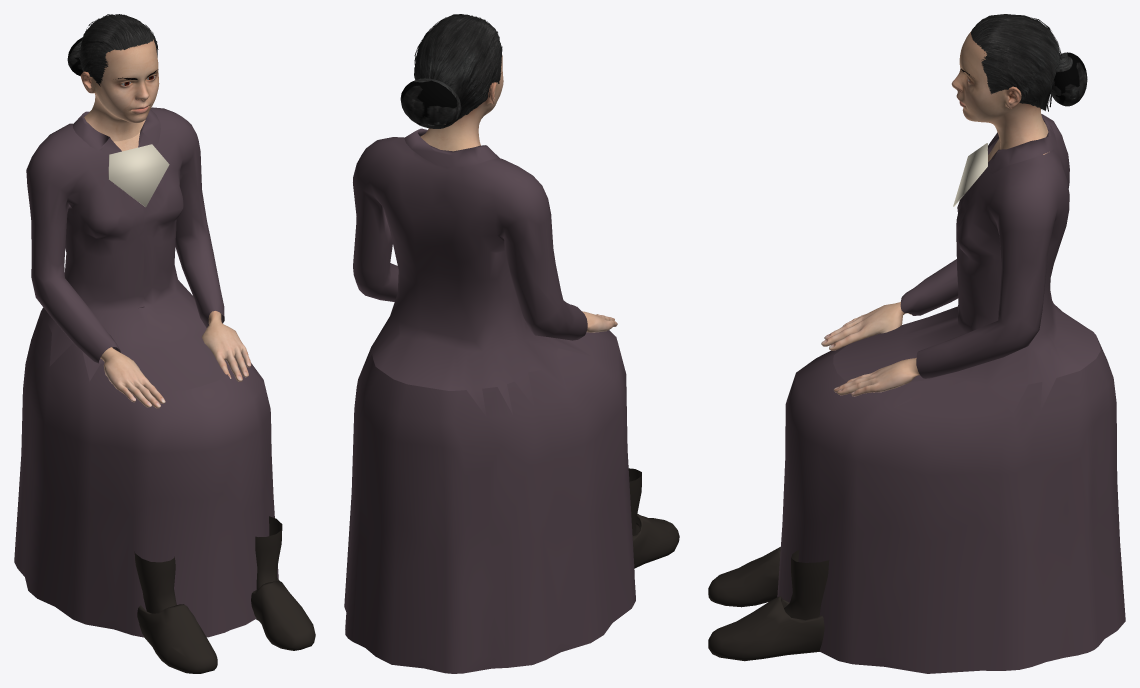
File: household-characters.glb
3 renders of one model, left to right at view 1: azimuth 30°, elevation 25°; view 2: azimuth 150°, elevation 25°; view 3: azimuth 270°, elevation 25°, orthographic. The views are drawn at different scales.
Parts seen in each view (by area): view 1: survivor_root_Coat, survivor_upper_Coat, survivor_root_Boot, survivor_head_Skin, survivor_upper_Skin, survivor_head_Hair, survivor_upper_Shirt; view 2: survivor_root_Coat, survivor_upper_Coat, survivor_head_Hair, survivor_head_BunHair, survivor_root_Boot, survivor_head_Skin; view 3: survivor_root_Coat, survivor_upper_Coat, survivor_root_Boot, survivor_head_Hair, survivor_head_Skin, survivor_upper_Skin, survivor_head_BunHair, survivor_upper_Shirt.
Boxes of the visible parts, box(x1,y1,x2,y2) form: survivor_root_Coat: box(14, 307, 278, 637); survivor_upper_Coat: box(26, 107, 232, 391); survivor_root_Boot: box(134, 516, 315, 673); survivor_head_Skin: box(80, 39, 159, 141); survivor_upper_Skin: box(100, 132, 251, 408); survivor_head_Hair: box(78, 14, 158, 86); survivor_upper_Shirt: box(108, 144, 169, 207); survivor_root_Coat: box(344, 330, 635, 673); survivor_upper_Coat: box(353, 128, 594, 416); survivor_head_Hair: box(414, 14, 502, 121); survivor_head_BunHair: box(400, 78, 461, 128); survivor_root_Boot: box(628, 468, 679, 568); survivor_head_Skin: box(420, 55, 503, 151); survivor_root_Coat: box(777, 337, 1125, 673); survivor_upper_Coat: box(833, 114, 1100, 412); survivor_root_Boot: box(708, 546, 829, 661); survivor_head_Hair: box(971, 14, 1061, 111); survivor_head_Skin: box(951, 31, 1048, 154); survivor_upper_Skin: box(821, 138, 1000, 396); survivor_head_BunHair: box(1050, 52, 1087, 106); survivor_upper_Shirt: box(953, 143, 987, 206).
Bounding box in the file's own units: 0.5442 × 1.34 × 0.8354.
8 materials, 5 textured.
